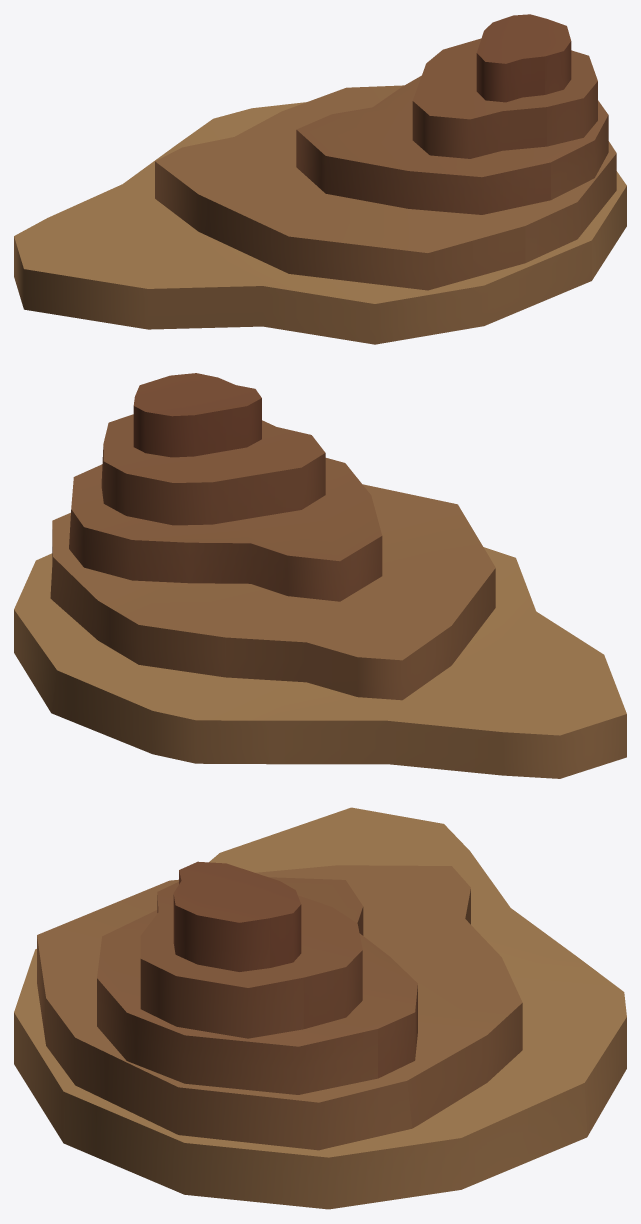
File: SM_DE_Hill_01.fbx
3 renders of one model, top to bottom at view 1: azimuth 30°, elevation 25°; view 2: azimuth 150°, elevation 25°; view 3: azimuth 270°, elevation 25°, orthographic. The views are drawn at different scales.
Visible parts, largest first — view 1: pCube443; view 2: pCube443; view 3: pCube443.
Boxes of the visible parts, x1=… form: pCube443: x1=14, y1=14, x2=626, y2=344; pCube443: x1=14, y1=373, x2=626, y2=778; pCube443: x1=14, y1=807, x2=626, y2=1209.
Size of the model in its own units: 289 by 95.57 by 214.
